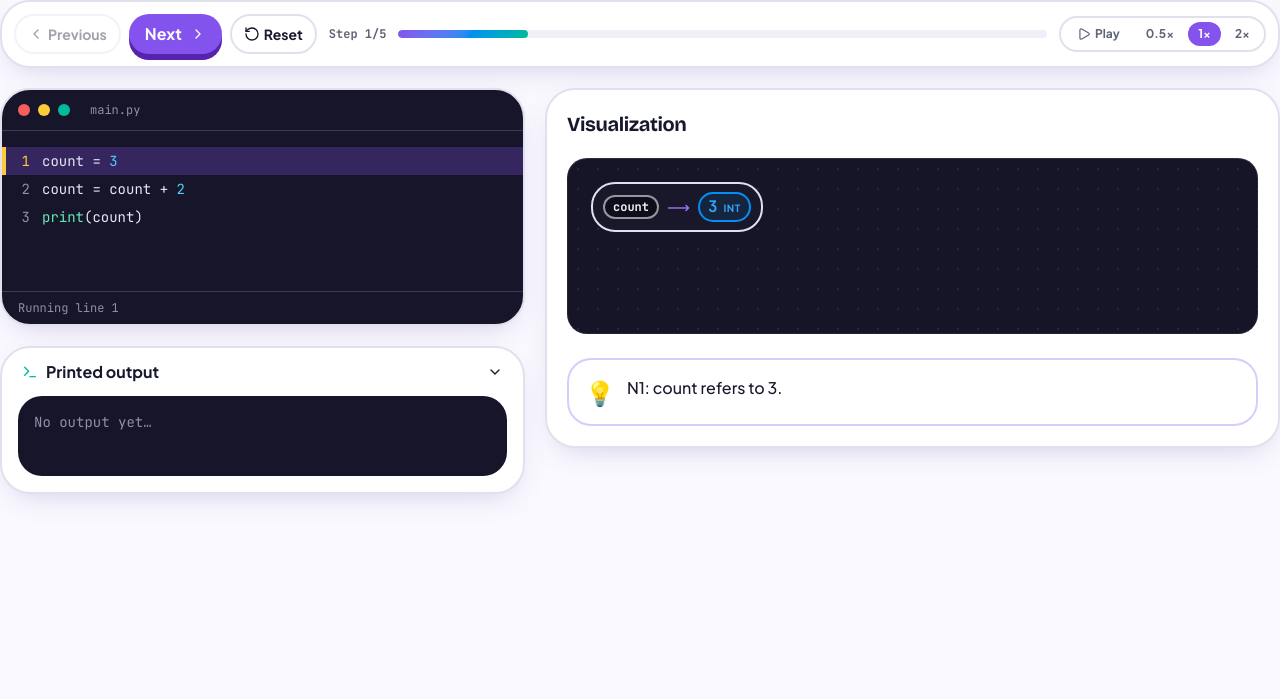
Scenario: predictions inside a walkthrough › stops autoplay at a prediction
The image size is (1280, 699).
Click the button "Play" at (1098, 34), box [1065,22,1132,46]
Wait 10000 ms
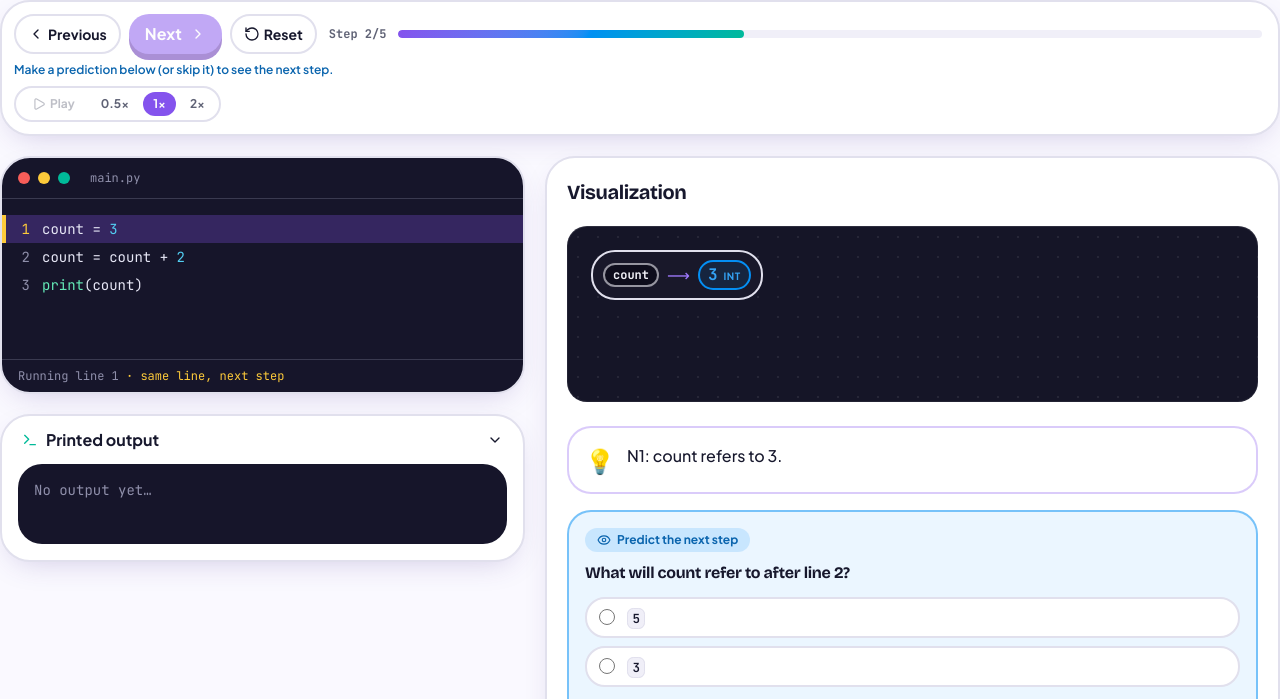
expect the text "N1: count refers to 3." is shown: met, box [627,444,782,468]
expect the heading "What will count refer to after line 2?" is shown: met, box [585,563,850,582]
